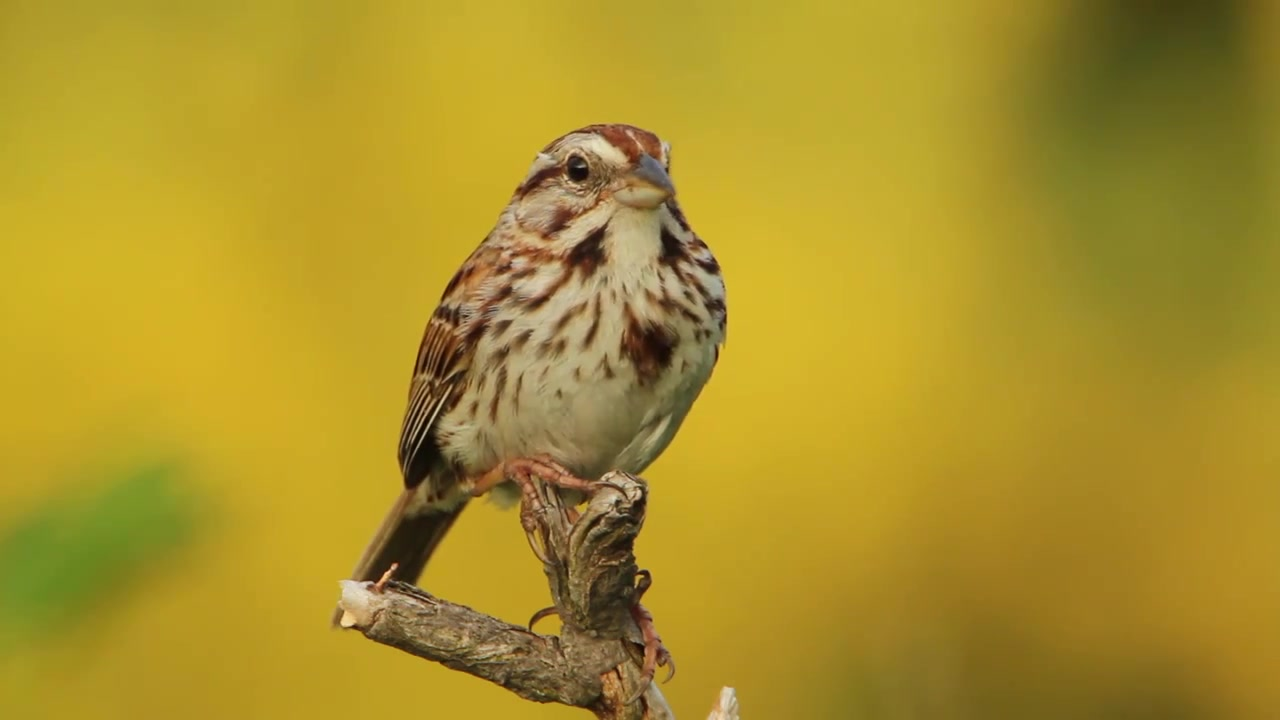bird: (331, 125, 730, 711)
